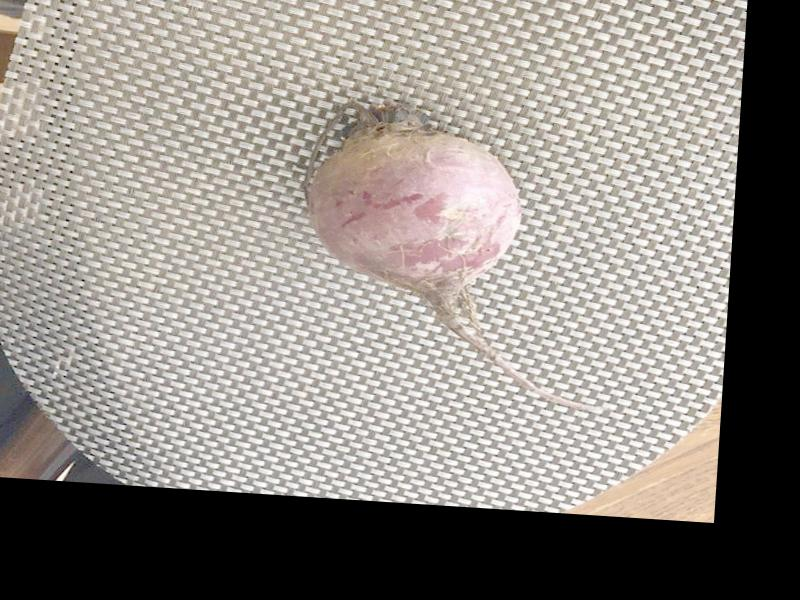Beet: (293, 95, 621, 413)
